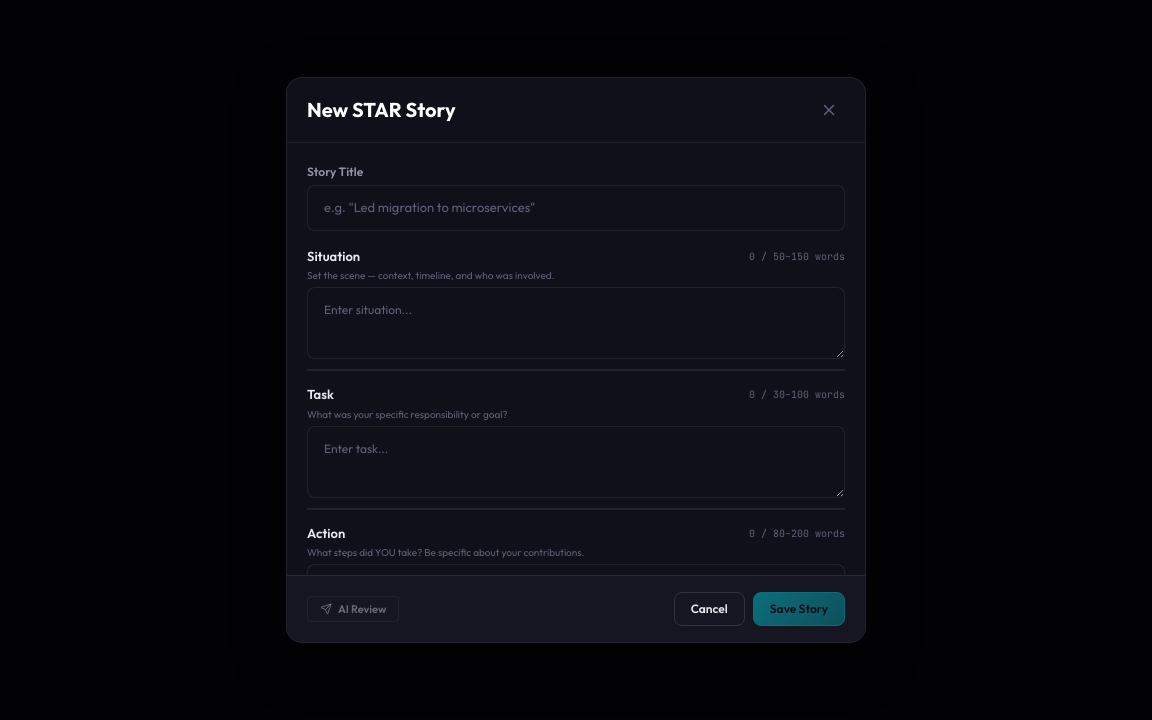
Test: StarStoryEditor › word count display › shows updated word count after typing in situation
The image size is (1152, 720).
In the text box with placeholder "Enter situation...": (576, 323) [307,287,845,359], type "One two three four five"
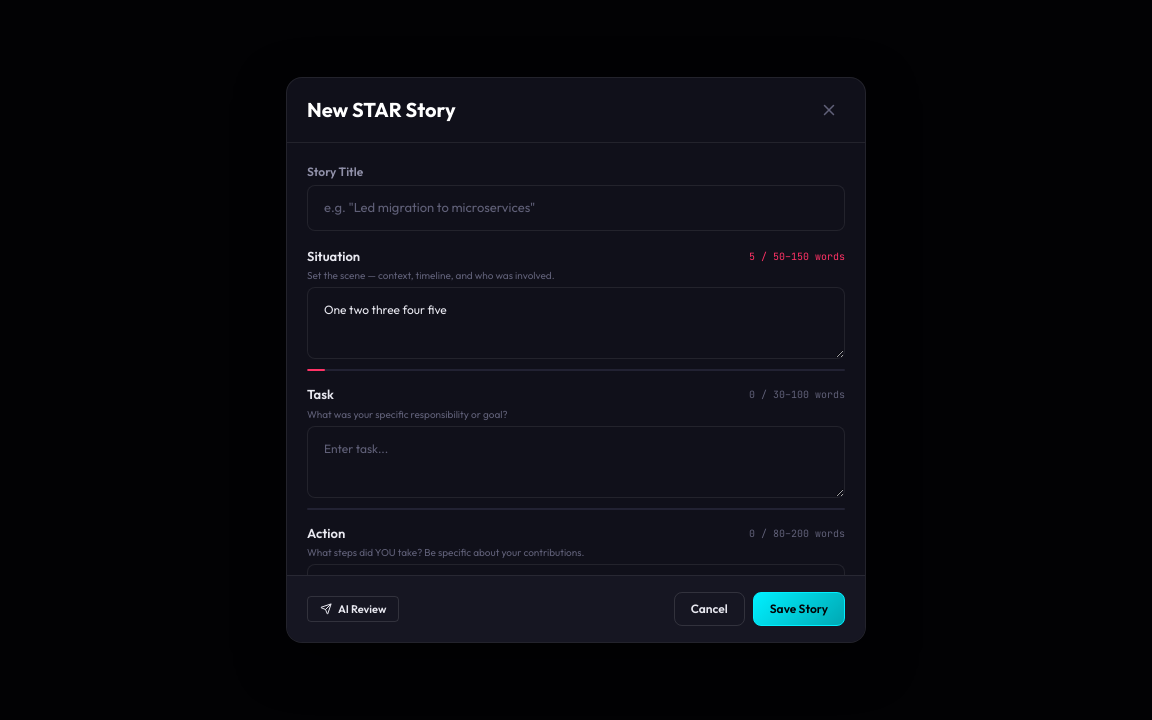
Now the text "5 / 50–150 words" is shown, box [749,249,845,264]
